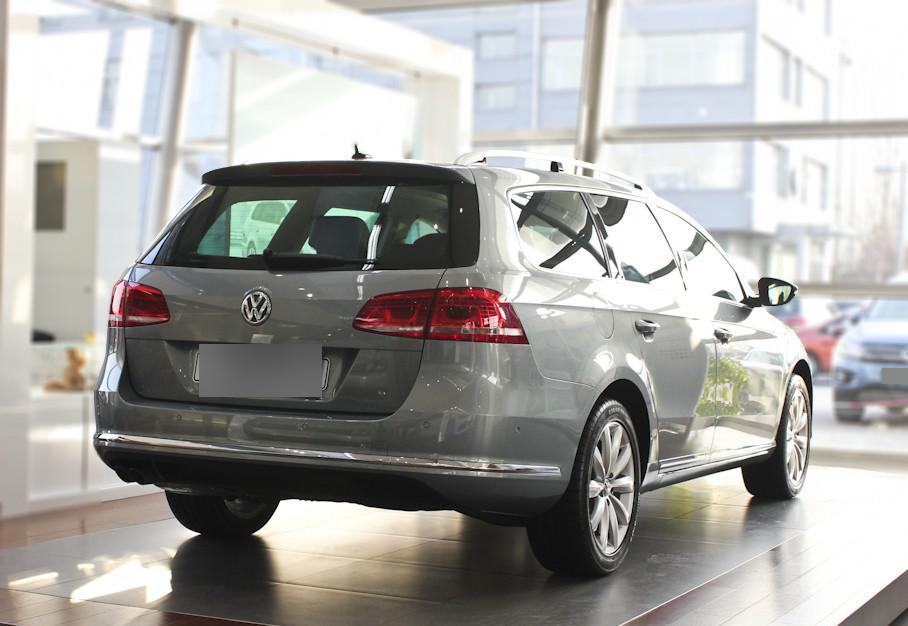Wagon: (92, 148, 813, 575)
